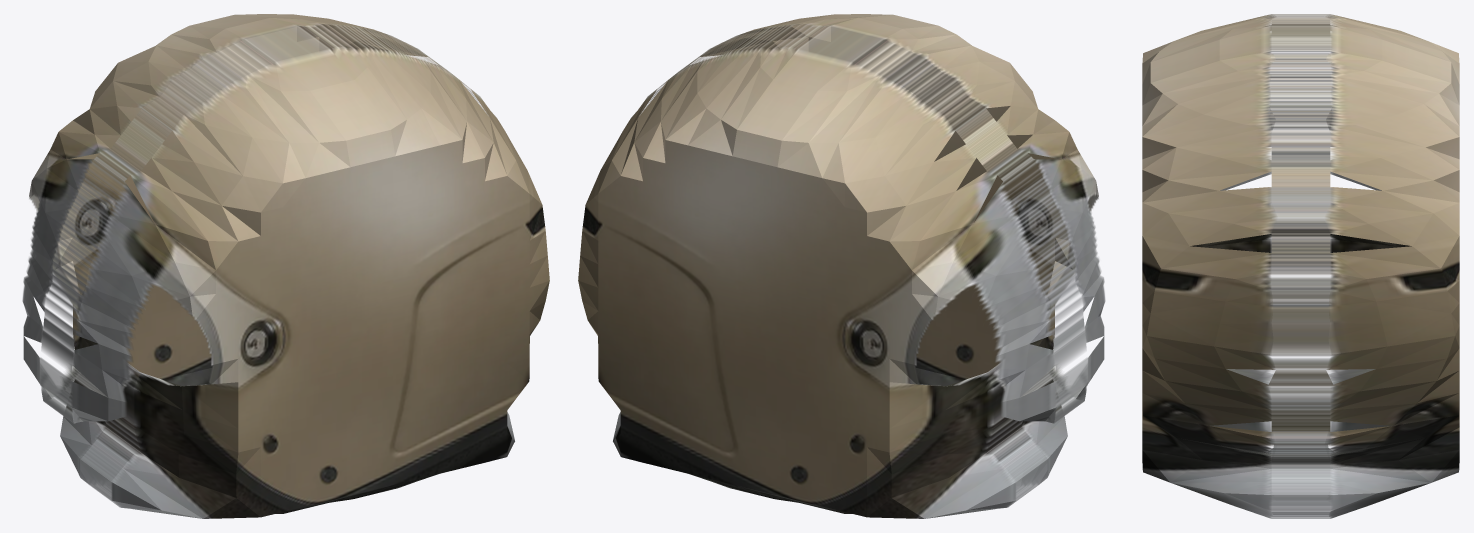
Rendered from kriega-vector-open-face-helmet-068.glb.
3 renders of one model, left to right at view 1: azimuth 30°, elevation 25°; view 2: azimuth 150°, elevation 25°; view 3: azimuth 270°, elevation 25°, orthographic. The views are drawn at different scales.
Visible parts, largest first — view 1: world; view 2: world; view 3: world.
Part boxes in pixels (x1,y1,x2,y2): world: (22, 14, 549, 518); world: (578, 14, 1105, 518); world: (1142, 14, 1459, 518).
Size of the model in its own units: 1 by 0.9233 by 0.64.
1 material, 1 textured.
